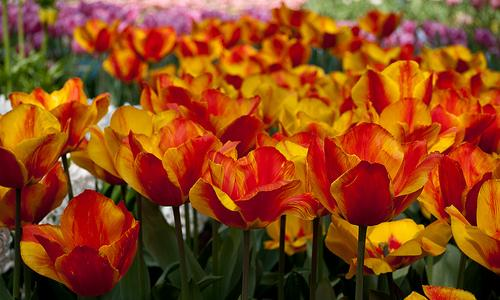tulip: (21, 188, 142, 300), (311, 124, 442, 226), (189, 149, 299, 230), (117, 120, 218, 206), (0, 105, 72, 188)
